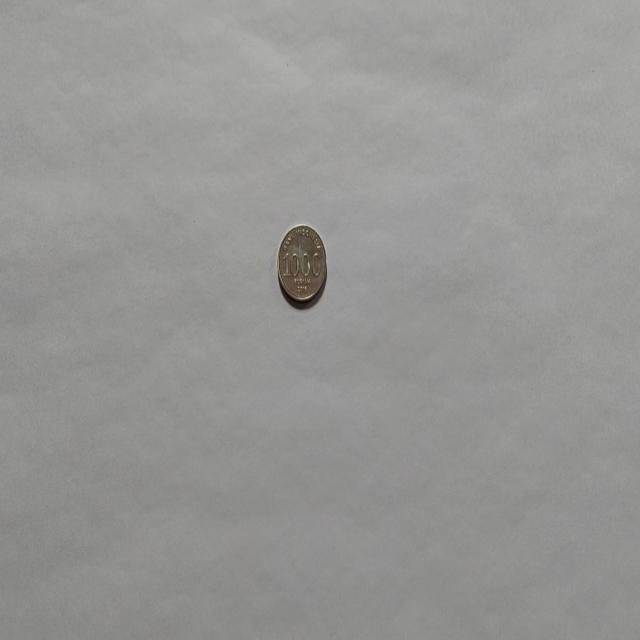seribu rupiah koin: (276, 222, 328, 305)
